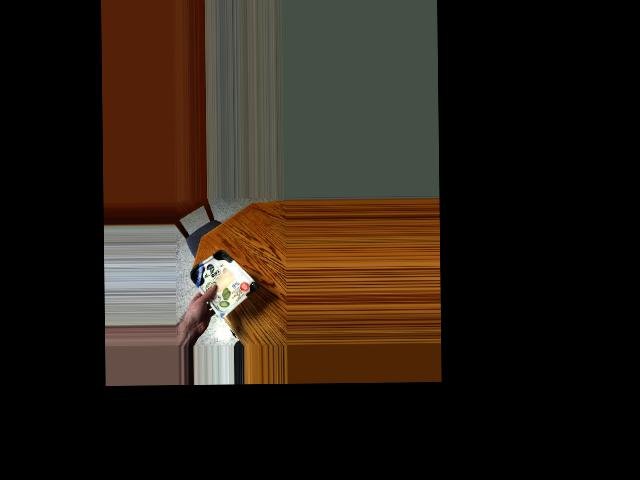cheese: (195, 248, 250, 307)
